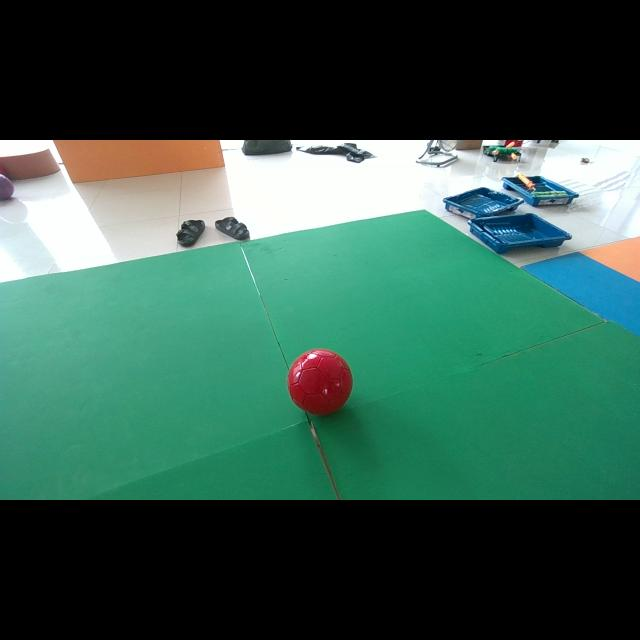R: (288, 349, 352, 415)
